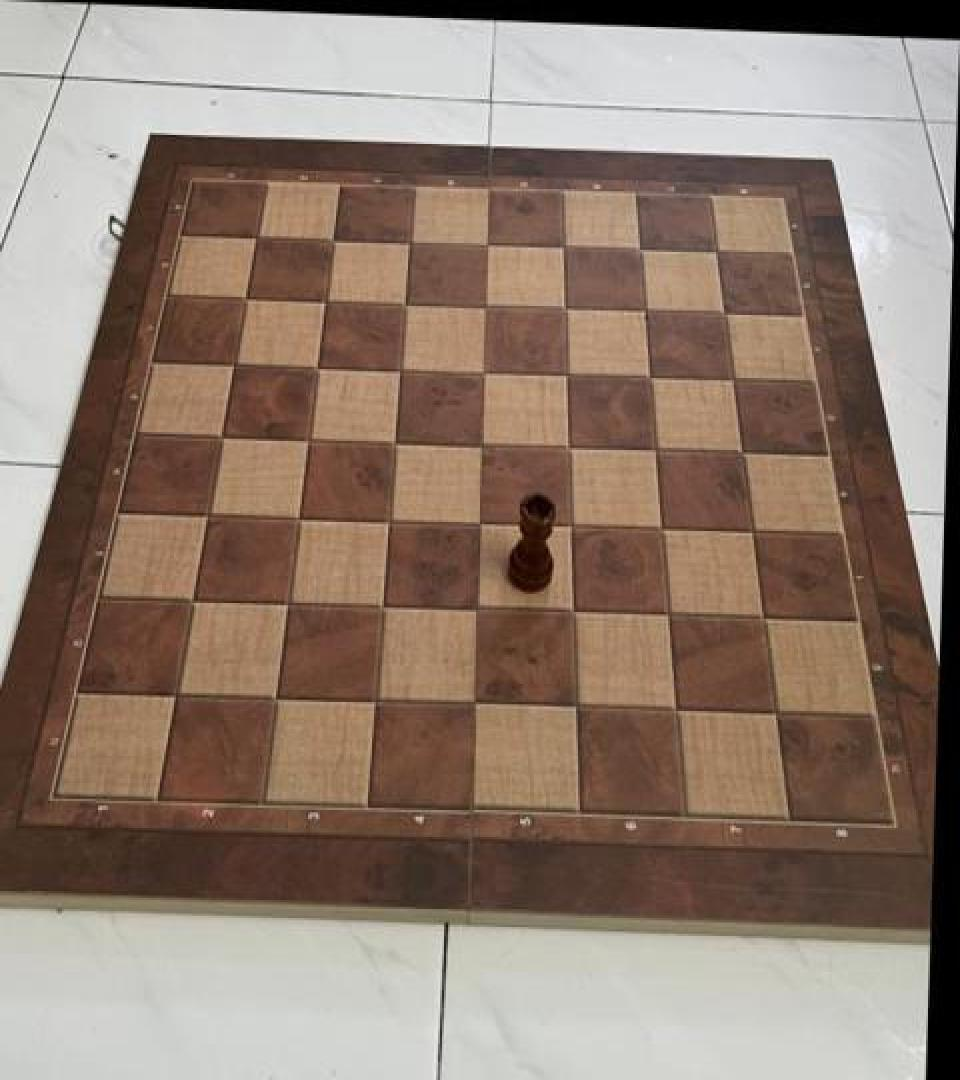xcorner: (545, 290, 579, 329), (281, 499, 315, 538), (458, 686, 492, 725), (697, 233, 731, 271), (620, 231, 654, 269), (544, 228, 578, 266), (467, 226, 501, 264), (390, 224, 424, 262), (314, 220, 348, 258), (237, 218, 271, 256), (705, 295, 739, 333), (625, 292, 659, 330), (466, 287, 500, 325), (386, 285, 420, 323), (306, 282, 340, 320), (227, 280, 261, 318), (714, 362, 748, 400), (631, 359, 665, 397), (547, 357, 581, 395), (464, 354, 498, 392), (381, 351, 415, 389), (299, 349, 333, 387), (216, 346, 250, 384), (723, 436, 757, 474), (636, 432, 670, 470), (550, 429, 584, 467), (463, 426, 497, 464), (376, 423, 410, 461), (290, 421, 324, 459), (204, 418, 238, 456), (733, 514, 767, 552), (642, 511, 676, 549), (552, 508, 586, 546), (461, 505, 495, 543), (371, 502, 405, 540), (190, 496, 224, 534), (744, 601, 778, 639), (649, 598, 683, 636), (554, 595, 588, 633), (460, 592, 494, 630), (365, 588, 399, 626), (270, 585, 304, 623), (176, 582, 210, 620), (756, 696, 790, 734), (657, 693, 691, 731), (557, 690, 591, 728), (358, 683, 392, 721), (259, 680, 293, 718), (160, 676, 194, 714)
